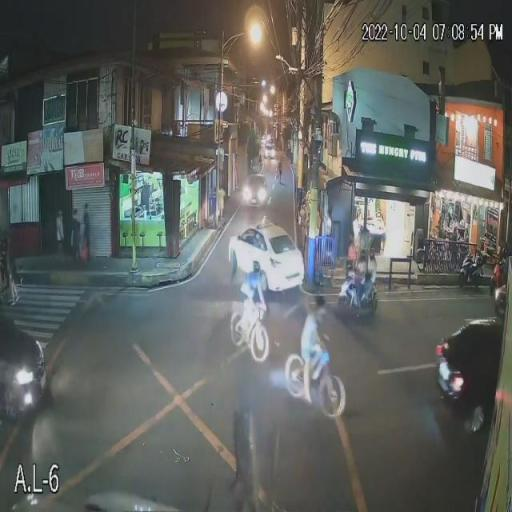helmet: (368, 247, 376, 260), (359, 248, 367, 260)
motorcycle: (336, 279, 379, 311)
rider: (355, 262, 367, 314), (365, 262, 376, 302)
